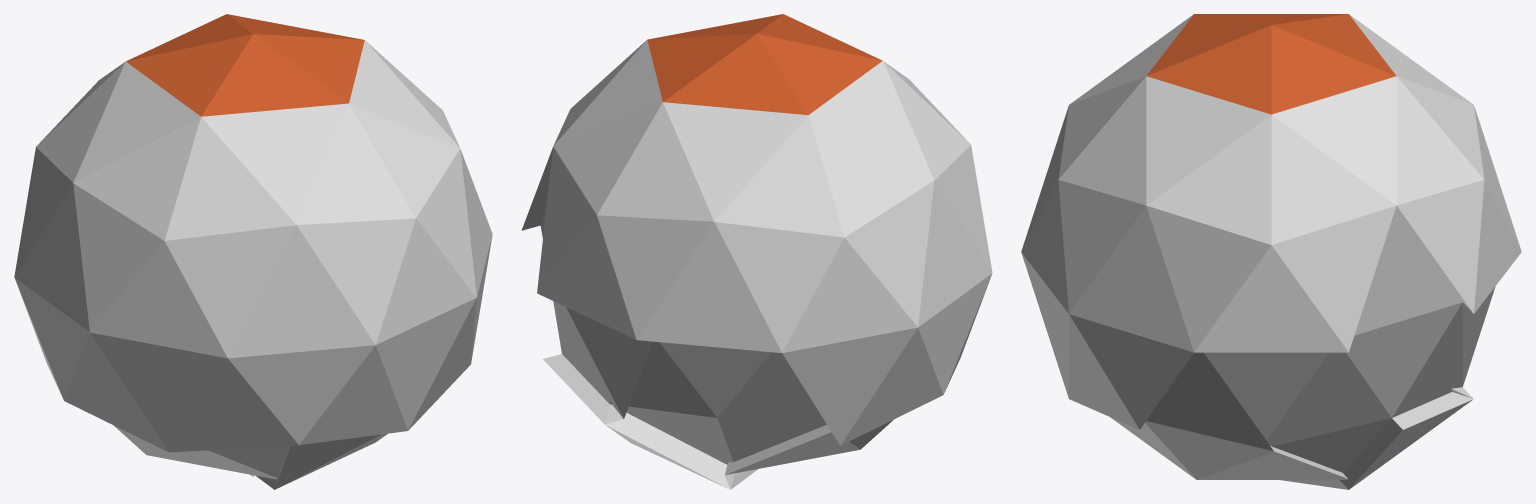
Rendered from Charon.fbx.
3 views of the same model, side by side, from view 1: azimuth 30°, elevation 25°; view 2: azimuth 150°, elevation 25°; view 3: azimuth 270°, elevation 25° (orthographic). The views are drawn at different scales.
Visible parts, largest first — view 1: Icosphere.005; view 2: Icosphere.005; view 3: Icosphere.005.
Boxes of the visible parts, x1,y1,x2,y2 form: Icosphere.005: [14, 14, 492, 489]; Icosphere.005: [521, 14, 992, 489]; Icosphere.005: [1021, 14, 1521, 489].
Bounding box in the file's own units: 1.65 × 1.73 × 1.73.
